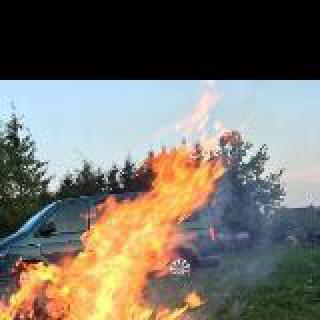fire: (0, 80, 276, 320)
